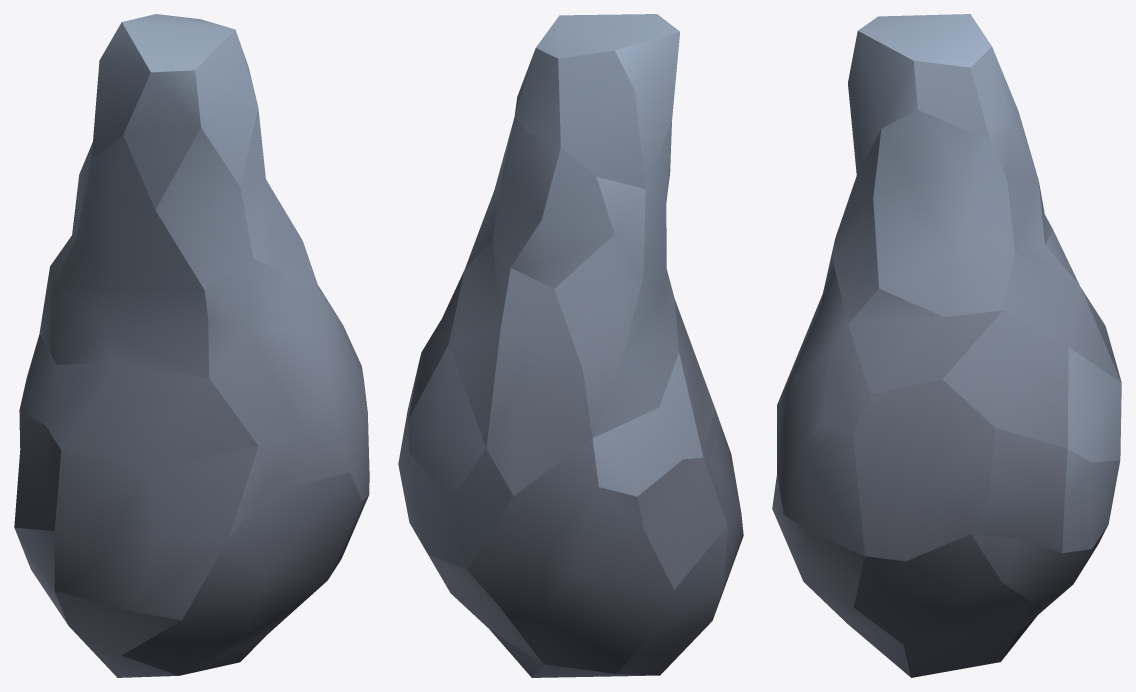
The model's file is SM_Rock_08.fbx.
The picture shows the model from 3 angles, left to right: view 1: azimuth 30°, elevation 25°; view 2: azimuth 150°, elevation 25°; view 3: azimuth 270°, elevation 25°; orthographic projection. The views are drawn at different scales.
Visible parts, largest first — view 1: Rock.007; view 2: Rock.007; view 3: Rock.007.
Part boxes in pixels (x1,y1,x2,y2): Rock.007: (14,14,369,677); Rock.007: (398,14,743,677); Rock.007: (772,14,1121,677).
Size of the model in its own units: 515 by 1081 by 550.
